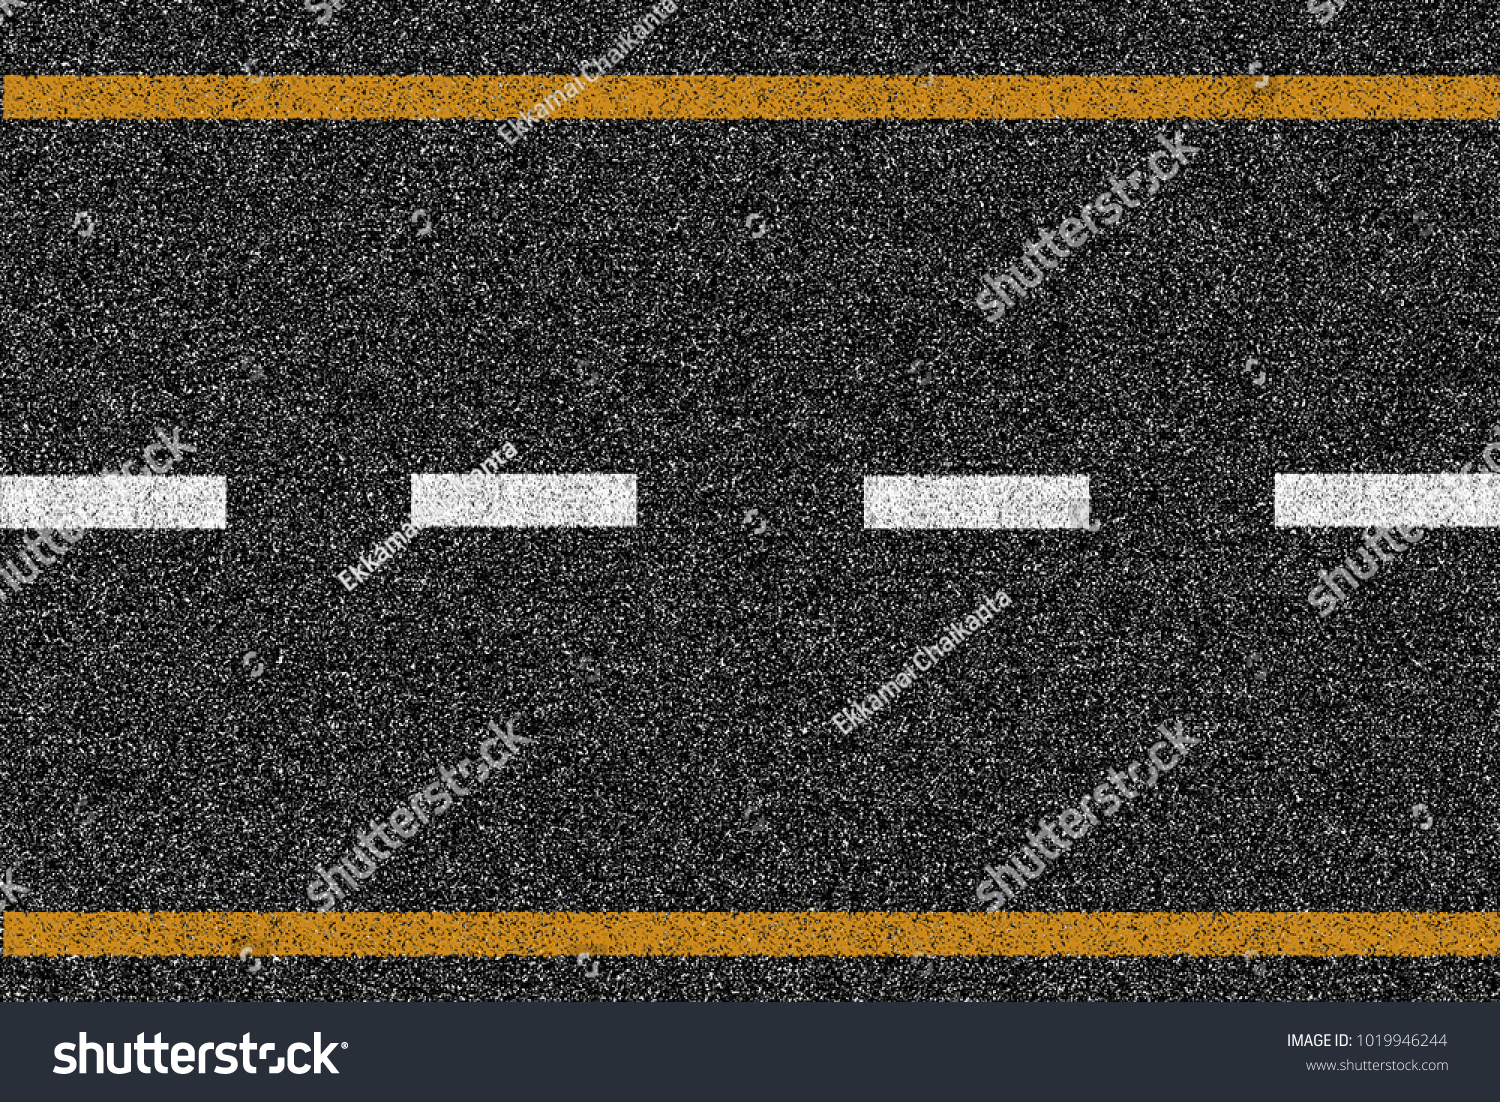LaneMark: (408, 471, 636, 535), (1271, 469, 1500, 530), (859, 473, 1092, 530), (1, 474, 229, 529)
